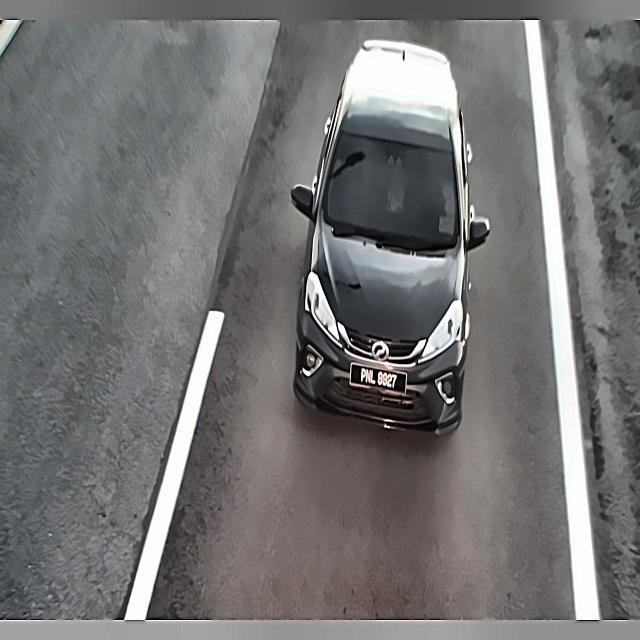car: (346, 351, 407, 403)
